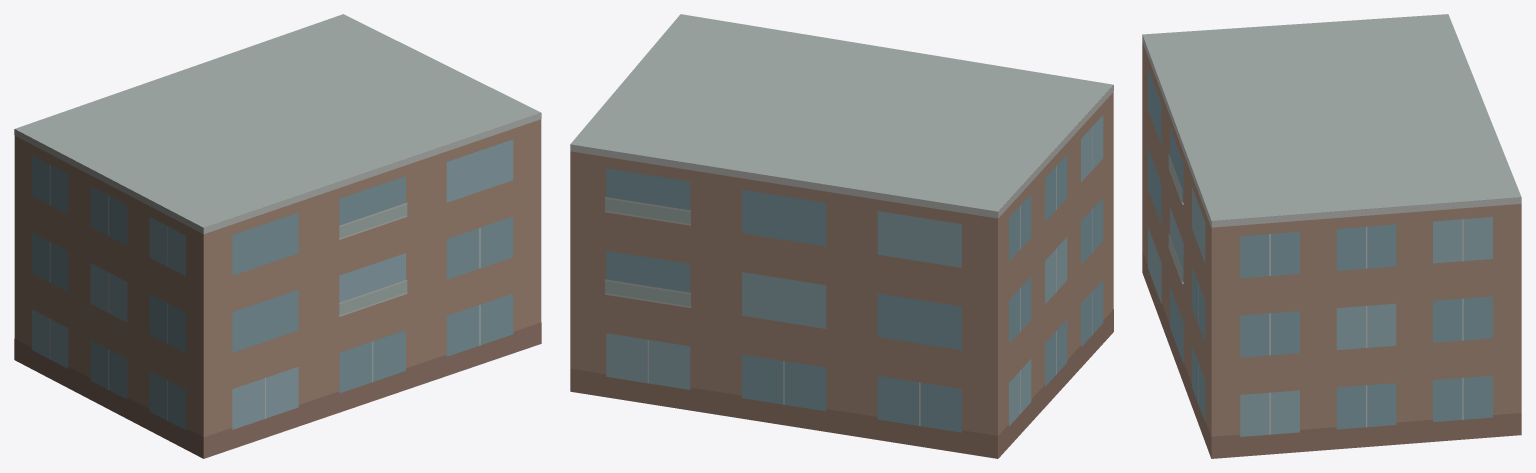
File: survey-upis-32882728.glb
3 renders of one model, left to right at view 1: azimuth 30°, elevation 25°; view 2: azimuth 150°, elevation 25°; view 3: azimuth 270°, elevation 25°, orthographic. The views are drawn at different scales.
Parts seen in each view (by area): view 1: survey-upis-32882728.tmp; view 2: survey-upis-32882728.tmp; view 3: survey-upis-32882728.tmp.
Boxes of the visible parts, x1=… form: survey-upis-32882728.tmp: x1=14, y1=14, x2=541, y2=458; survey-upis-32882728.tmp: x1=570, y1=14, x2=1113, y2=458; survey-upis-32882728.tmp: x1=1142, y1=14, x2=1521, y2=458.
Bounding box in the file's own units: 16.24 × 8.7 × 12.58.
